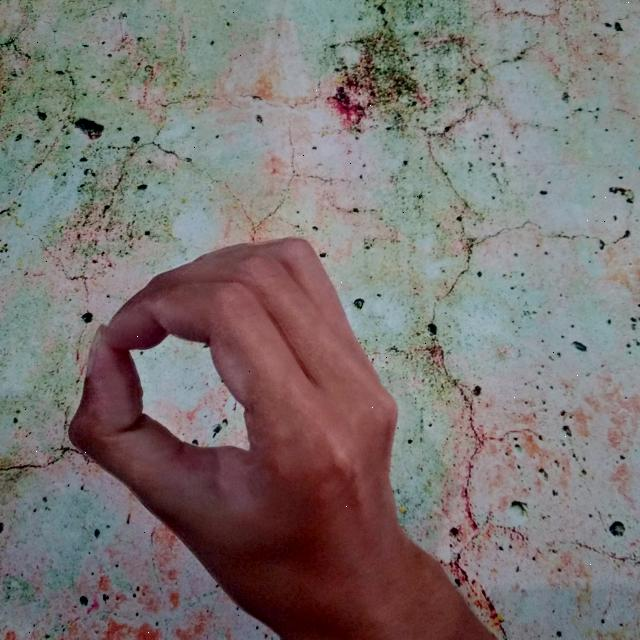O: (57, 229, 504, 640)
